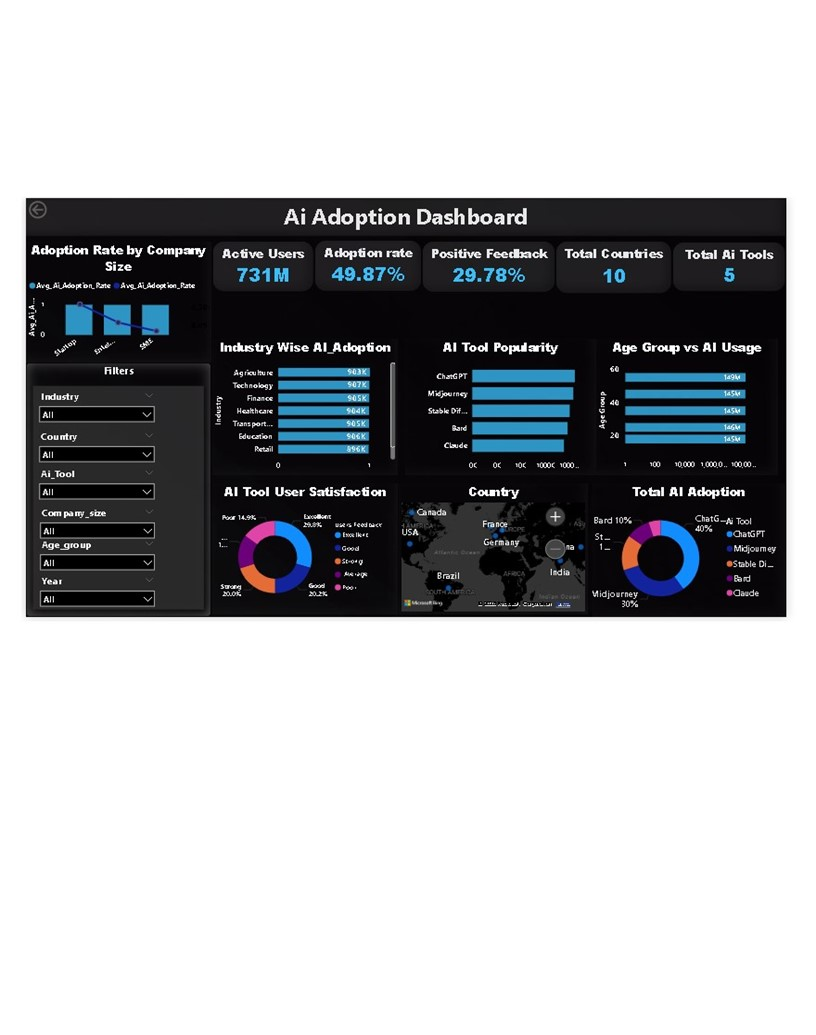

The page's visual inventory and layout, read from the dashboard file:
{"tool":"powerbi","page":{"name":"Main","canvas":[1280,720],"ordinal":1},"visuals":[{"type":"card","title":"Active Users","fields":{"Values":["Ai_Adoption_Data.Total_Active_Users"]},"box":[314.6,73.7,171.5,87.9],"z":0},{"type":"pieChart","title":"Total AI Adoption","fields":{"Category":["Ai_Adoption_Data.Ai_Tool"],"Y":["Sum(Ai_Adoption_Data.AI_Adoption_Rate)"]},"box":[955.3,490.4,324.6,229.6],"z":1000},{"type":"map","title":"Country","fields":{"Category":["Ai_Adoption_Data.Country"]},"box":[627.9,490.4,318.9,225.4],"z":2000},{"type":"clusteredBarChart","title":"Industry Wise AI_Adoption","fields":{"Category":["Ai_Adoption_Data.Industry"],"Y":["Ai_Adoption_Data.Avg_Ai_Adoption_Rate"]},"box":[314.6,242.4,313.2,235.3],"z":3000},{"type":"card","title":"Total Countries","fields":{"Values":["Ai_Adoption_Data.Total_Countries"]},"box":[892.9,73.7,195.6,90.7],"z":4000},{"type":"textbox","box":[0,0,1279.8,65],"z":5000},{"type":"card","title":"Adoption rate","fields":{"Values":["Ai_Adoption_Data.Avg_Ai_Adoption_Rate"]},"box":[486.1,72.3,181.4,89.3],"z":6000},{"type":"card","title":"Positive Feedback","fields":{"Values":["Ai_Adoption_Data.Positive_Feedback%"]},"box":[667.6,73.7,225.4,89.3],"z":7000},{"type":"card","title":"Total Ai Tools","fields":{"Values":["Ai_Adoption_Data.Total_AI_Tools"]},"box":[1088.5,75.1,191.3,86.5],"z":8000},{"type":"actionButton","box":[0,0,100,40],"z":9000},{"type":"clusteredBarChart","title":"AI Tool Popularity","fields":{"Category":["Ai_Adoption_Data.Ai_Tool"],"Y":["Ai_Adoption_Data.Total_Active_Users"]},"box":[639.2,242.4,321.7,235.3],"z":10000},{"type":"lineStackedColumnComboChart","title":"Adoption Rate by Company Size","fields":{"Category":["Ai_Adoption_Data.Company_size"],"Y":["Ai_Adoption_Data.Avg_Ai_Adoption_Rate"],"Y2":["Ai_Adoption_Data.Avg_Ai_Adoption_Rate"]},"box":[0,75.1,311.8,208.3],"z":11000},{"type":"clusteredBarChart","title":"Age Group vs AI Usage","fields":{"Category":["Ai_Adoption_Data.Age_group"],"Y":["Ai_Adoption_Data.Total_Active_Users"]},"box":[960.9,242.4,306.1,233.9],"z":12000},{"type":"donutChart","title":"AI Tool User Satisfaction","fields":{"Category":["Ai_Adoption_Data.Users_Feedback"],"Y":["CountNonNull(Ai_Adoption_Data.Users_Feedback)"]},"box":[314.6,490.4,313.2,225.4],"z":13000},{"type":"shape","title":"Filters","box":[0,283.5,311.8,436.5],"z":14500},{"type":"slicer","fields":{"Values":["Ai_Adoption_Data.Country"]},"box":[12.8,394,214,73.7],"z":15000},{"type":"slicer","fields":{"Values":["Ai_Adoption_Data.Ai_Tool"]},"box":[12.8,457.8,214,76.5],"z":17000},{"type":"slicer","fields":{"Values":["Ai_Adoption_Data.Company_size"]},"box":[14.2,524.4,212.6,75.1],"z":18000},{"type":"slicer","fields":{"Values":["Ai_Adoption_Data.Age_group"]},"box":[14.2,579.7,212.6,62.4],"z":19000},{"type":"slicer","fields":{"Values":["Ai_Adoption_Data.Year_date.Variation.Date Hierarchy.Year"]},"box":[14.2,642,212.6,66.6],"z":20000},{"type":"slicer","fields":{"Values":["Ai_Adoption_Data.Industry"]},"box":[12.8,324.6,214,69.4],"z":24000}]}

Visuals, with their boxes on the page's 1280x720 design canvas (x1, y1, x2, y2). These are canvas units, not pixel positions in the 816x1035 screenshot, which may show the page scaled, cropped or inside an application window:
"Active Users" card: (x1=315, y1=74, x2=486, y2=162)
"Total AI Adoption" pieChart: (x1=955, y1=490, x2=1280, y2=720)
"Country" map: (x1=628, y1=490, x2=947, y2=716)
"Industry Wise AI_Adoption" clusteredBarChart: (x1=315, y1=242, x2=628, y2=478)
"Total Countries" card: (x1=893, y1=74, x2=1088, y2=164)
textbox: (x1=0, y1=0, x2=1280, y2=65)
"Adoption rate" card: (x1=486, y1=72, x2=668, y2=162)
"Positive Feedback" card: (x1=668, y1=74, x2=893, y2=163)
"Total Ai Tools" card: (x1=1088, y1=75, x2=1280, y2=162)
actionButton: (x1=0, y1=0, x2=100, y2=40)
"AI Tool Popularity" clusteredBarChart: (x1=639, y1=242, x2=961, y2=478)
"Adoption Rate by Company Size" lineStackedColumnComboChart: (x1=0, y1=75, x2=312, y2=283)
"Age Group vs AI Usage" clusteredBarChart: (x1=961, y1=242, x2=1267, y2=476)
"AI Tool User Satisfaction" donutChart: (x1=315, y1=490, x2=628, y2=716)
"Filters" shape: (x1=0, y1=284, x2=312, y2=720)
slicer - Ai_Adoption_Data.Country: (x1=13, y1=394, x2=227, y2=468)
slicer - Ai_Adoption_Data.Ai_Tool: (x1=13, y1=458, x2=227, y2=534)
slicer - Ai_Adoption_Data.Company_size: (x1=14, y1=524, x2=227, y2=600)
slicer - Ai_Adoption_Data.Age_group: (x1=14, y1=580, x2=227, y2=642)
slicer - Ai_Adoption_Data.Year_date.Variation.Date Hierarchy.Year: (x1=14, y1=642, x2=227, y2=709)
slicer - Ai_Adoption_Data.Industry: (x1=13, y1=325, x2=227, y2=394)
